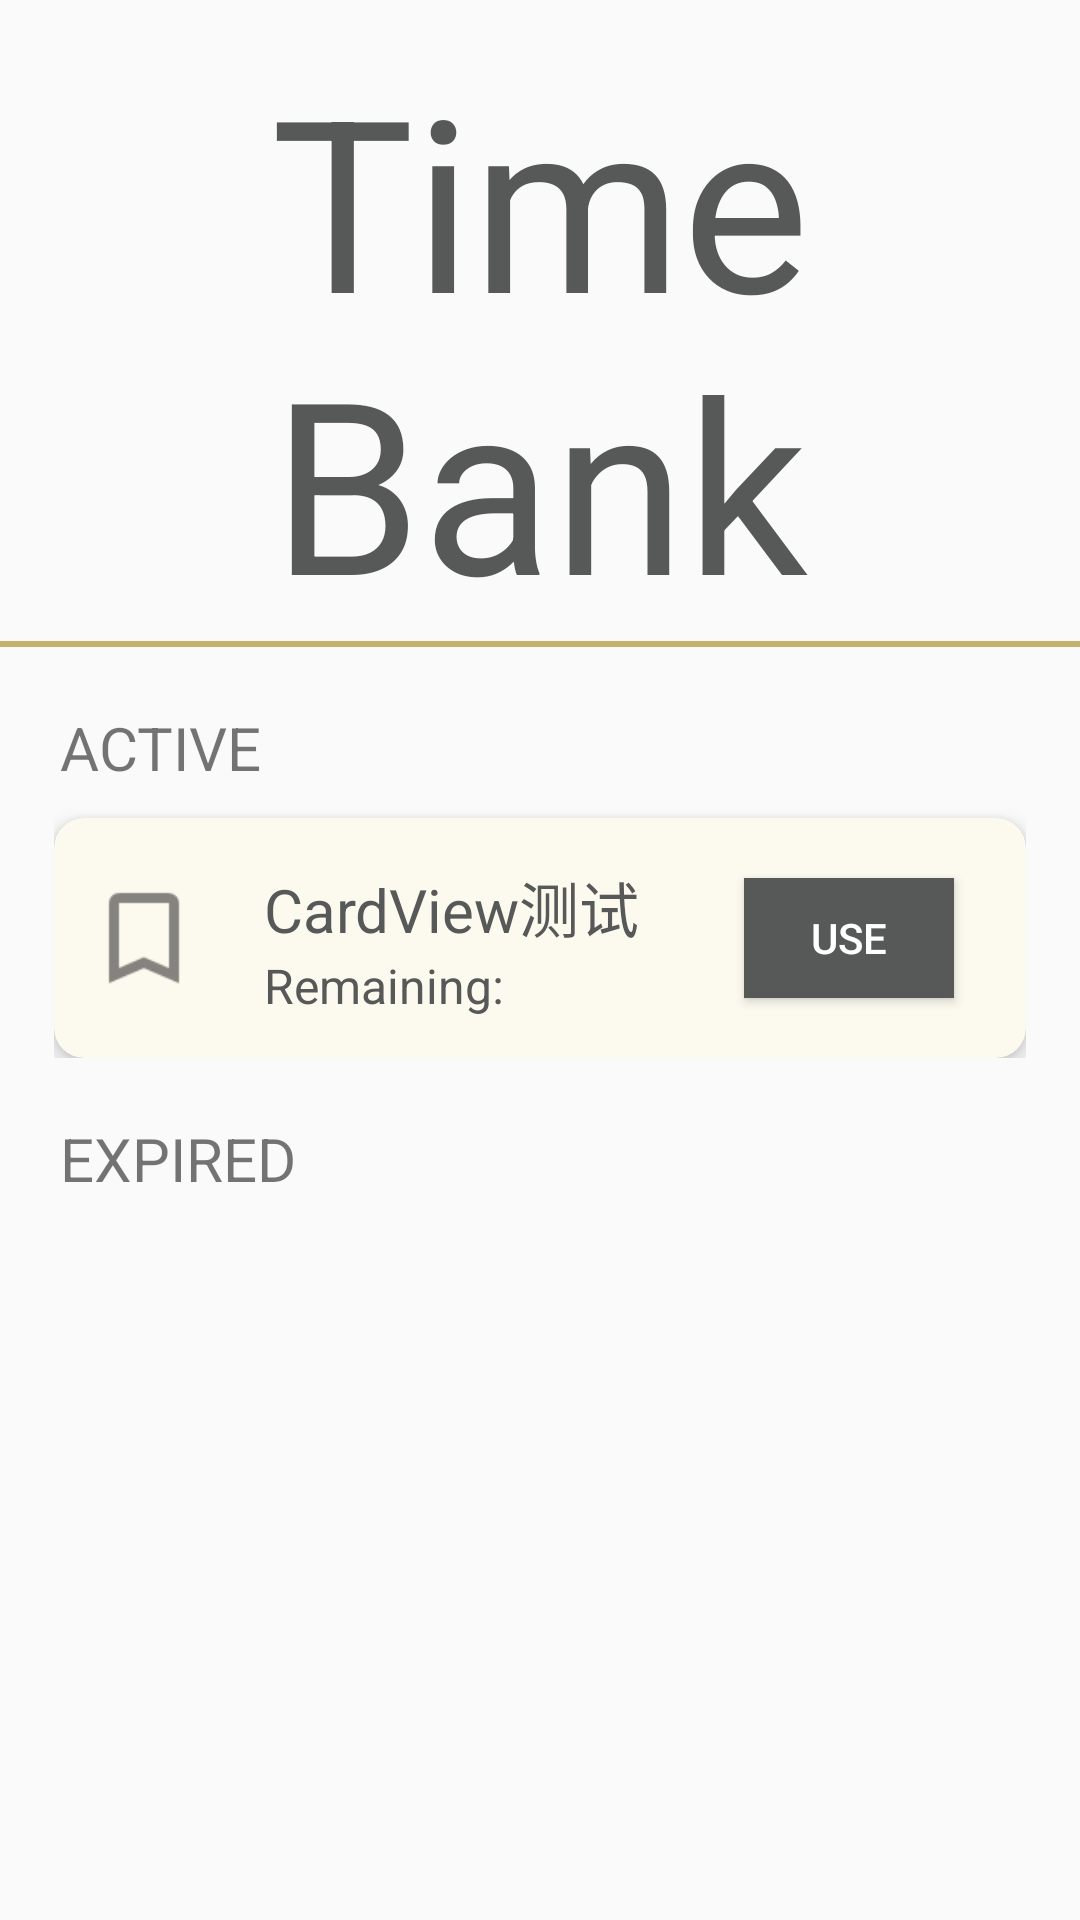

Screen size 1080×1920. Icon name, then its box in pixels as (x1, y1, x2, y2):
mark: (108, 892, 179, 983)
